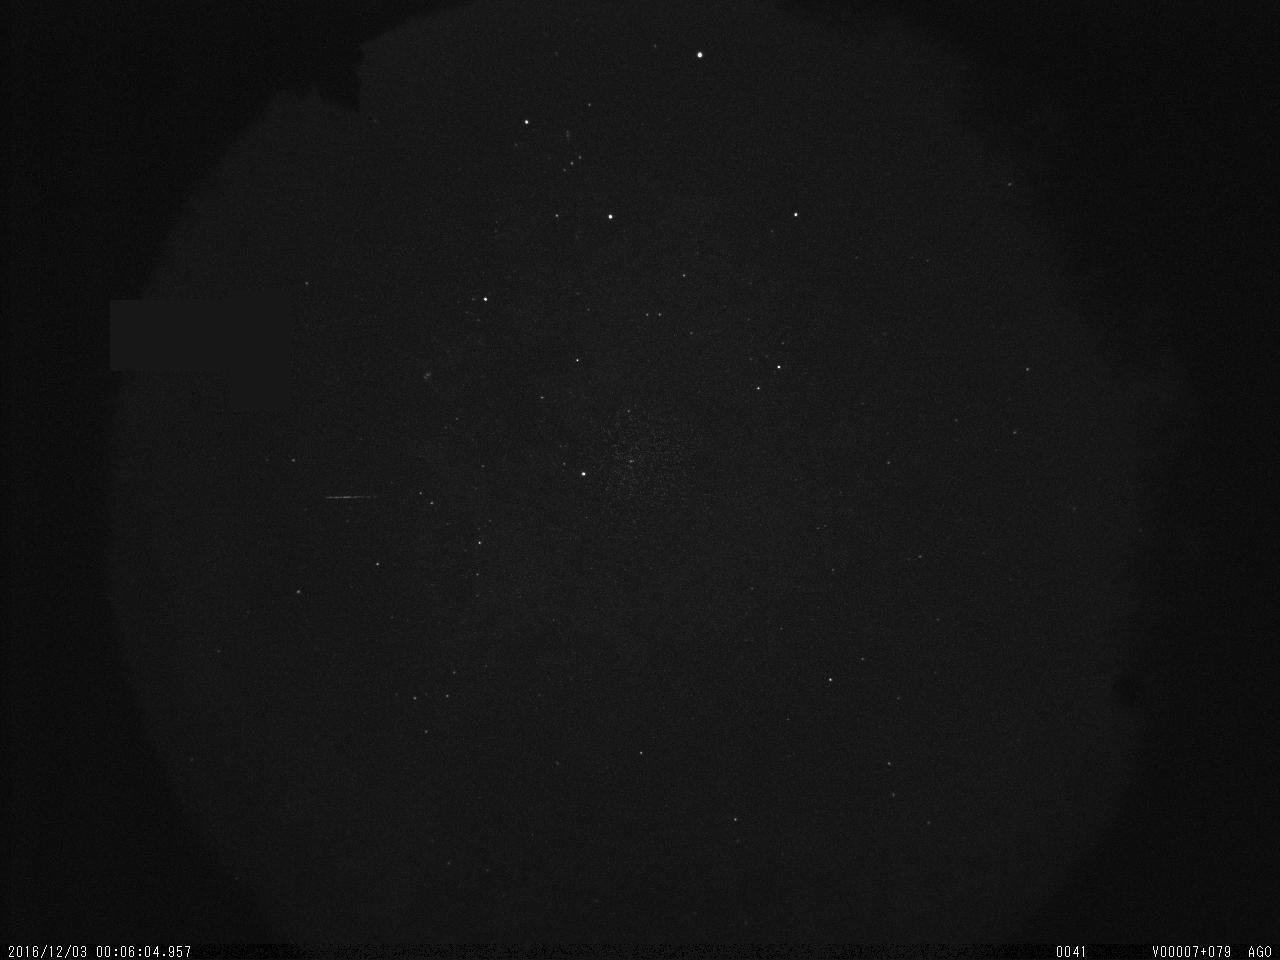Meteor: (314, 485, 389, 512)
